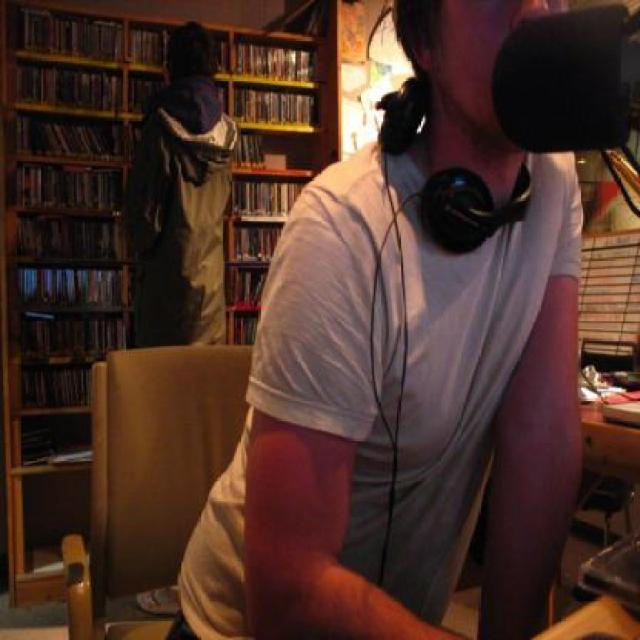earphone: (360, 58, 532, 252)
